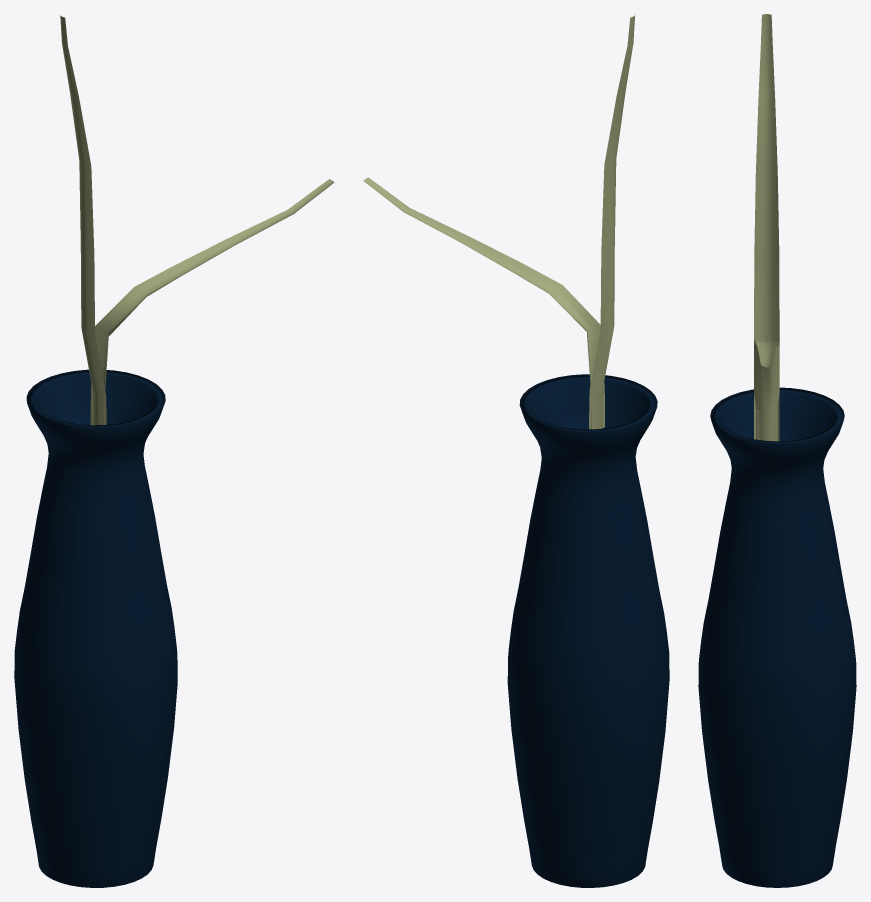
Rendered from vase.fbx.
3 renders of one model, left to right at view 1: azimuth 30°, elevation 25°; view 2: azimuth 150°, elevation 25°; view 3: azimuth 270°, elevation 25°, orthographic. The views are drawn at different scales.
Visible parts, largest first — view 1: Cylinder.005; view 2: Cylinder.005; view 3: Cylinder.005.
Boxes of the visible parts, <box> form: Cylinder.005: <box>14,15,334,887</box>; Cylinder.005: <box>363,14,669,887</box>; Cylinder.005: <box>698,14,856,887</box>.
Size of the model in its own units: 175 by 474 by 81.73.
Materials: 2 (1 with a texture image).
